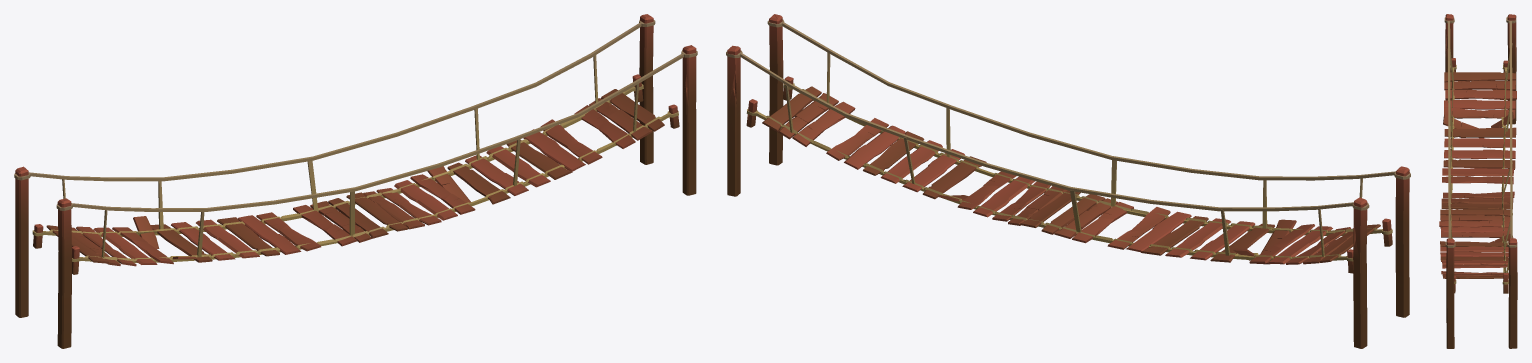
The model's file is HangingBridgeLong.fbx.
The picture shows the model from 3 angles, left to right: view 1: azimuth 30°, elevation 25°; view 2: azimuth 150°, elevation 25°; view 3: azimuth 270°, elevation 25°; orthographic projection. The views are drawn at different scales.
Parts seen in each view (by area): view 1: HangingBridgeLong; view 2: HangingBridgeLong; view 3: HangingBridgeLong.
Part boxes in pixels (x1=…): HangingBridgeLong: x1=14, y1=14, x2=697, y2=348; HangingBridgeLong: x1=726, y1=14, x2=1410, y2=348; HangingBridgeLong: x1=1439, y1=14, x2=1517, y2=348.
Bounding box in the file's own units: 17.52 × 3.84 × 2.53.
